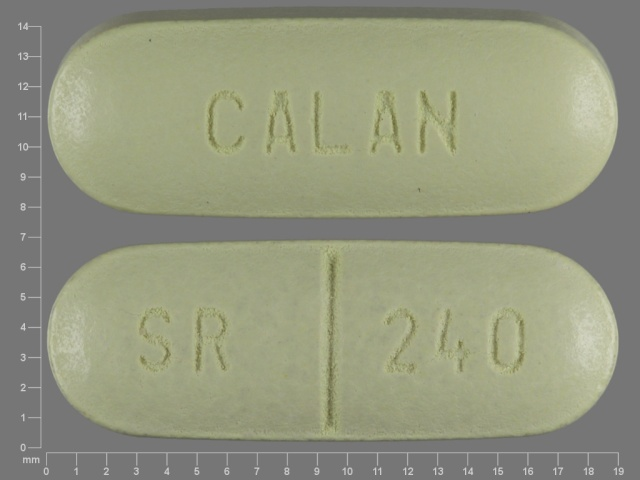0: (485, 306, 529, 376)
2: (383, 308, 420, 376)
4: (434, 308, 472, 377)
A: (365, 88, 406, 158), (263, 89, 297, 158)
C: (204, 87, 248, 160)
L: (310, 87, 354, 160)
N: (417, 86, 461, 157)
R: (189, 306, 230, 376)
S: (138, 309, 175, 373)
|: (317, 247, 344, 435)
